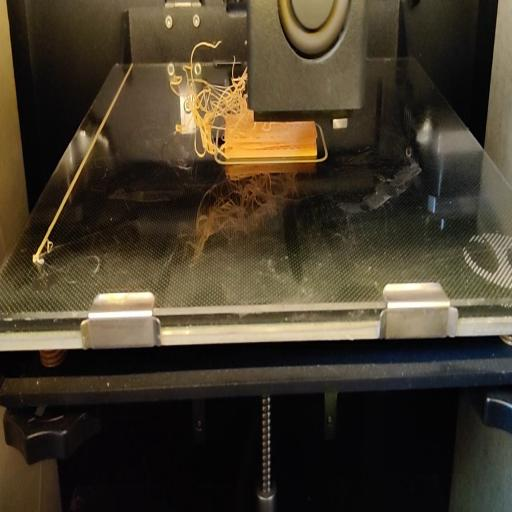spaghetti: (169, 37, 246, 176)
